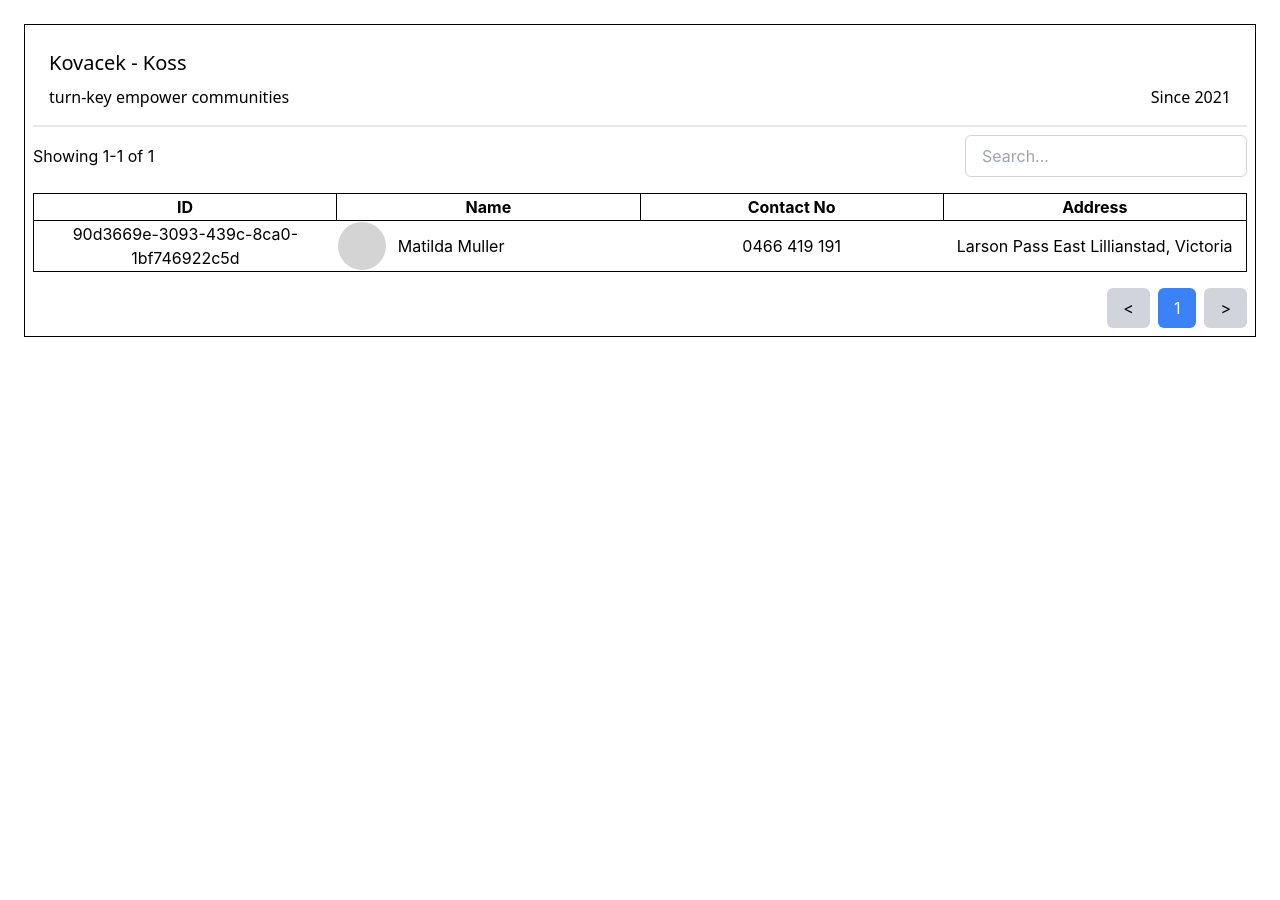
it: EmployeeData Component › should close modal when close button is clicked
The width and height of the screenshot is (1280, 900).
Click the text "90d3669e-3093-439c-8ca0-1bf746922c5d" at (185, 246), box [34,220,337,272]
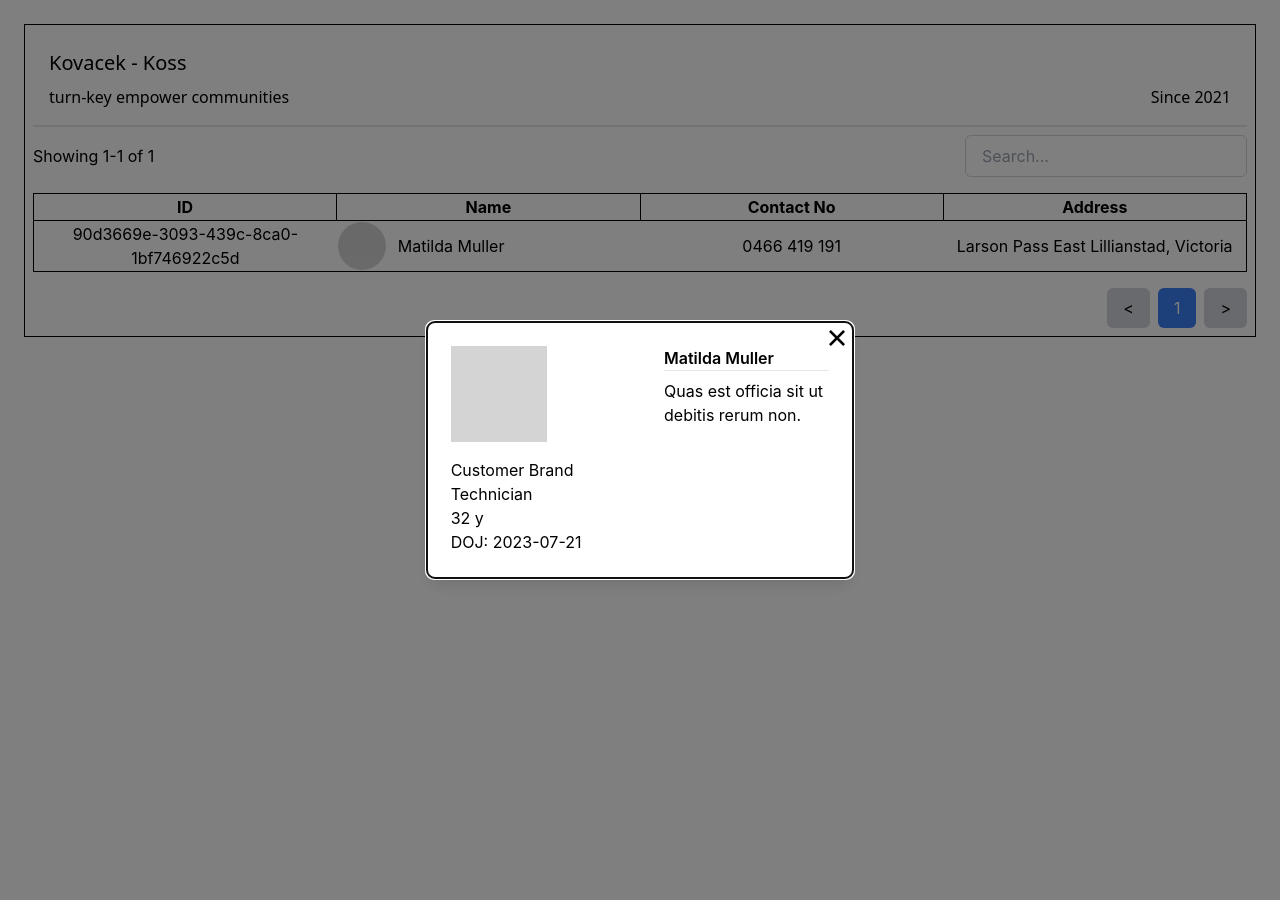
Expected: the text "Customer Brand Technician" is shown, [451,460,574,504]
Click the button with test id "close" at (837, 338), box [829,330,845,346]
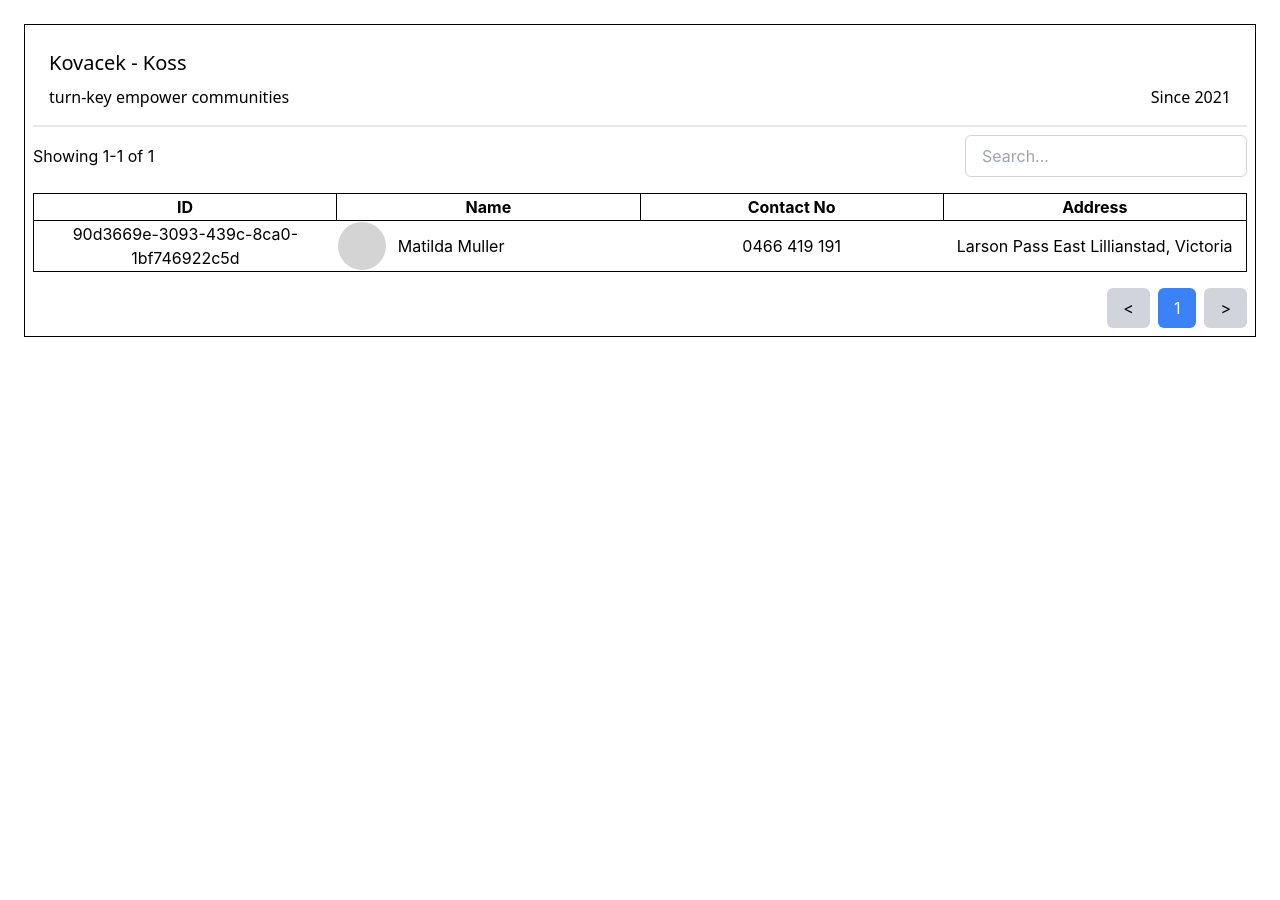
Expected: the text "Customer Brand Technician" is gone
